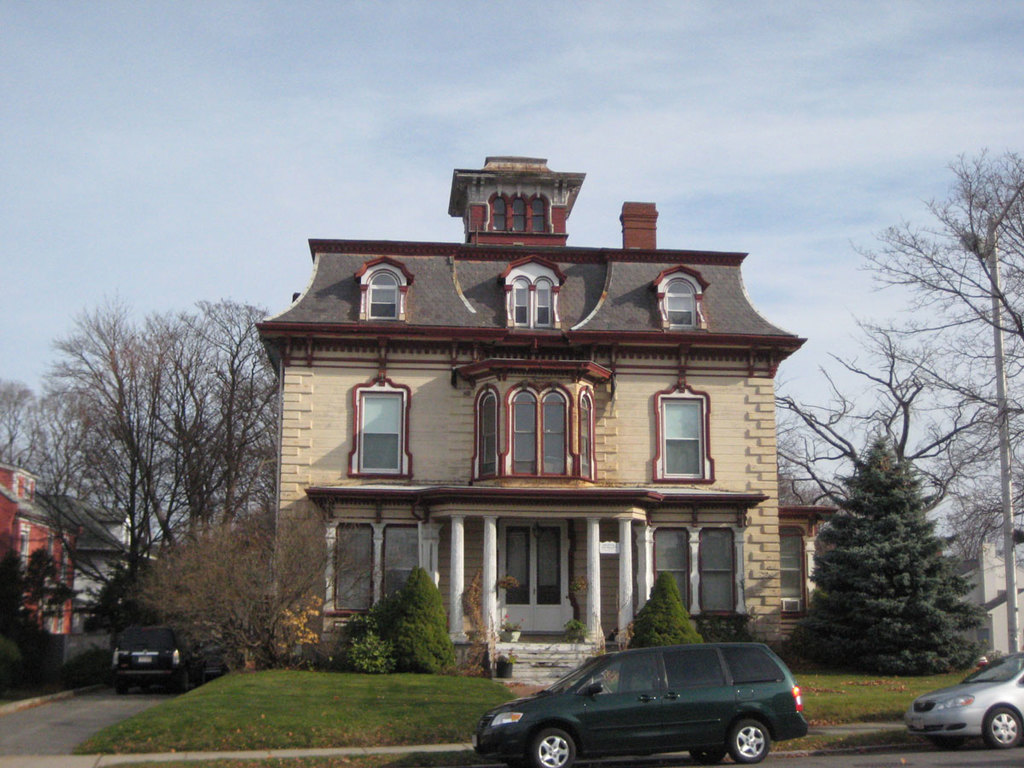cars: (477, 632, 807, 766), (900, 654, 1023, 746)
